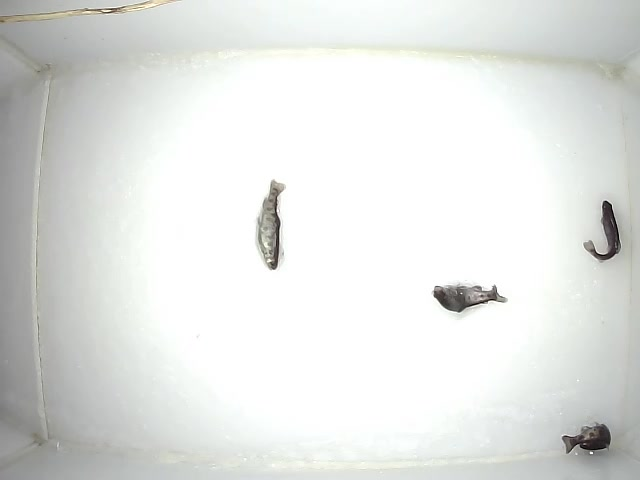fish: (254, 179, 287, 271), (580, 198, 622, 264), (430, 280, 510, 314), (560, 420, 612, 455)
